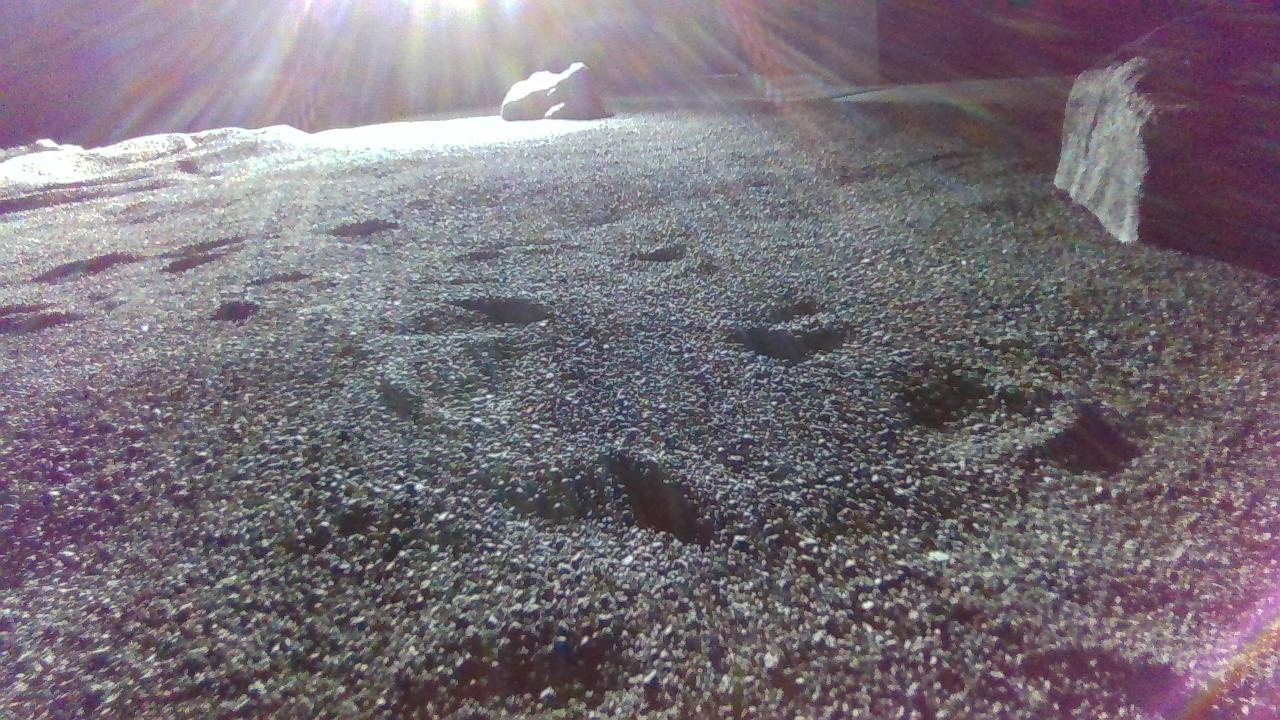rock: (1057, 7, 1280, 252), (500, 61, 607, 119)
